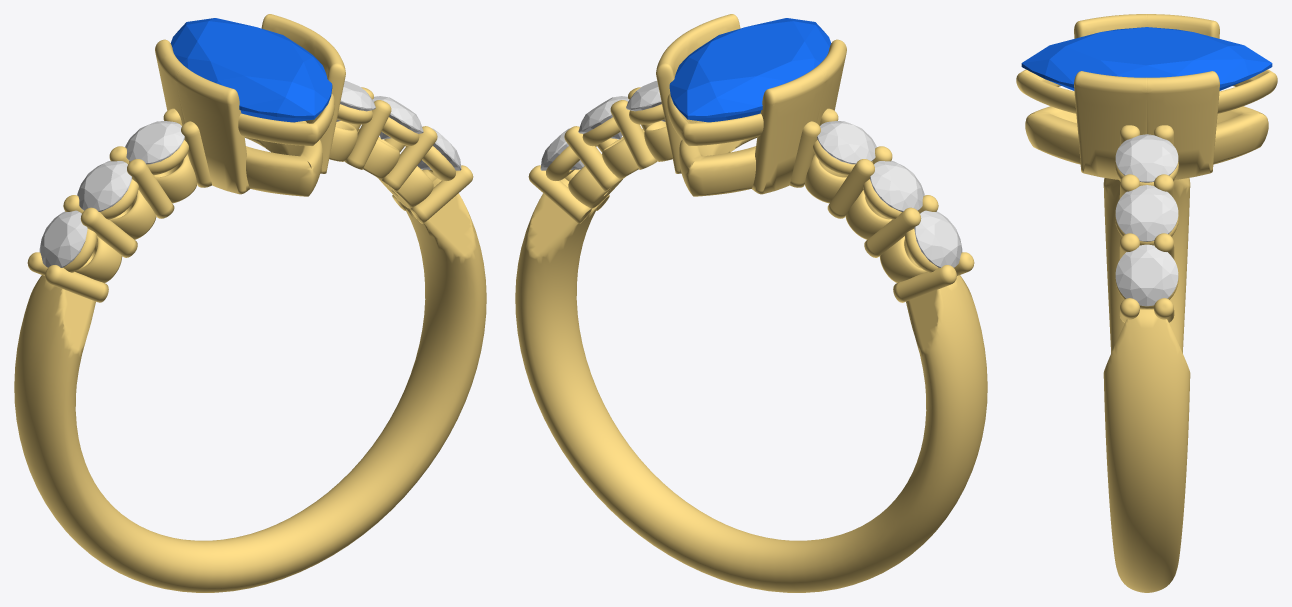
The model's file is bluesapphire-marquise-yellowgold-halfmoonbezel-taperedband-7stone.glb.
The picture shows the model from 3 angles, left to right: view 1: azimuth 30°, elevation 25°; view 2: azimuth 150°, elevation 25°; view 3: azimuth 270°, elevation 25°; orthographic projection.
Parts seen in each view (by area): view 1: metal.003, stone.001, dia.002, dia.015, dia.016, dia.018, dia.019; view 2: metal.003, stone.001, dia.002, dia.015, dia.016, dia.018, dia.019; view 3: metal.003, stone.001, dia.017, dia.018, dia.019.
Boxes of the visible parts, box(x1,y1,x2,y2) form: metal.003: box(14, 14, 486, 592); stone.001: box(170, 18, 332, 122); dia.002: box(39, 210, 87, 267); dia.015: box(77, 161, 131, 211); dia.016: box(125, 121, 184, 164); dia.018: box(372, 96, 423, 139); dia.019: box(336, 81, 375, 121); metal.003: box(515, 14, 987, 592); stone.001: box(669, 18, 831, 122); dia.002: box(914, 210, 962, 267); dia.015: box(870, 161, 924, 211); dia.016: box(817, 121, 876, 164); dia.018: box(578, 96, 629, 139); dia.019: box(626, 81, 665, 121); metal.003: box(1016, 14, 1277, 592); stone.001: box(1021, 27, 1272, 90); dia.017: box(1115, 244, 1178, 306); dia.018: box(1115, 185, 1178, 241); dia.019: box(1115, 134, 1178, 182).
Bounding box in the file's own units: 20.5 × 22.92 × 10.4.
